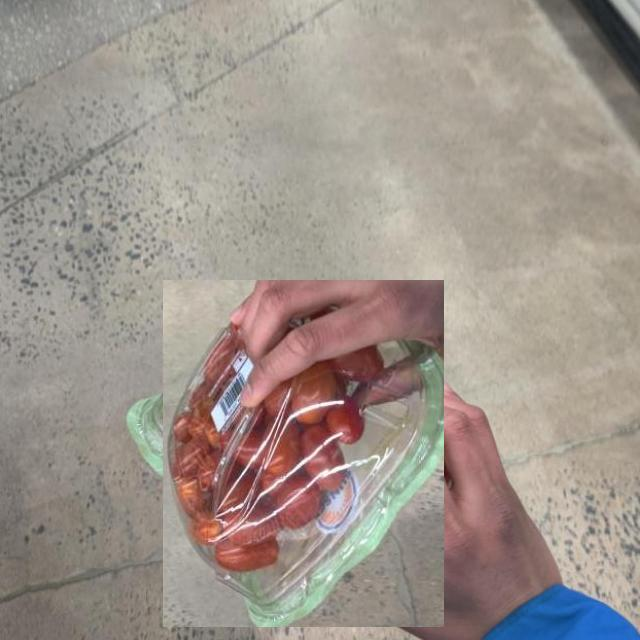Tomatoes: (164, 279, 444, 627)
